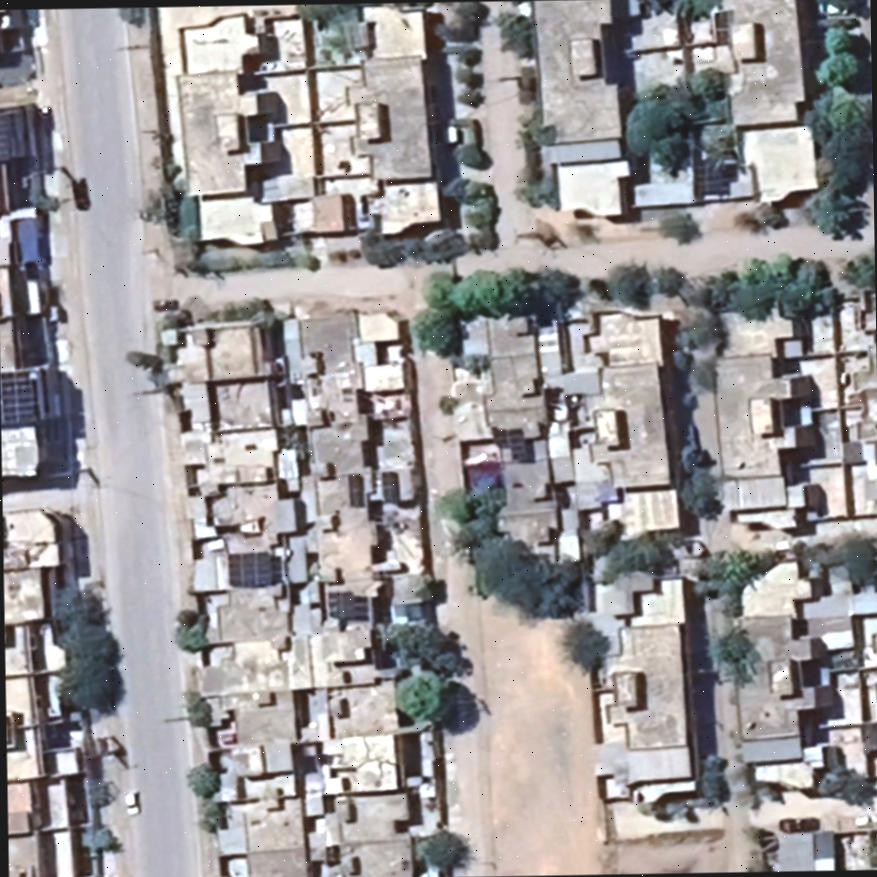Solarpanel: (0, 365, 46, 432), (224, 549, 283, 593), (492, 425, 529, 465), (326, 589, 368, 622), (343, 470, 366, 512), (377, 469, 401, 506)
